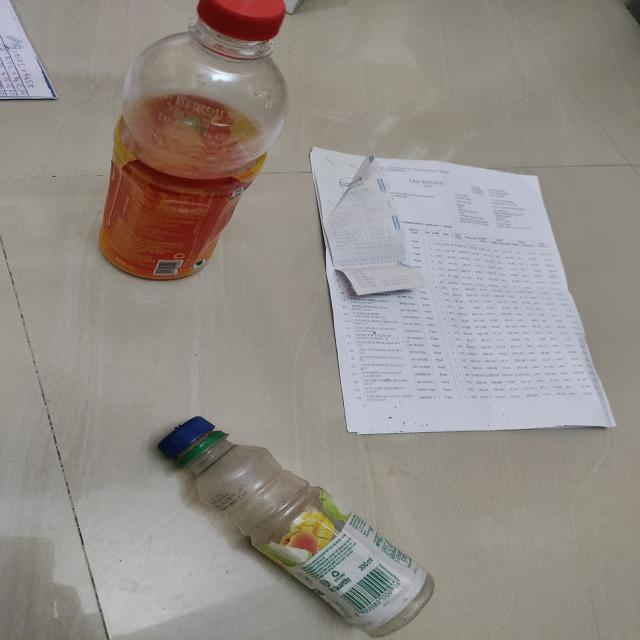dry: (289, 135, 640, 475), (132, 384, 444, 640), (84, 1, 304, 298)
